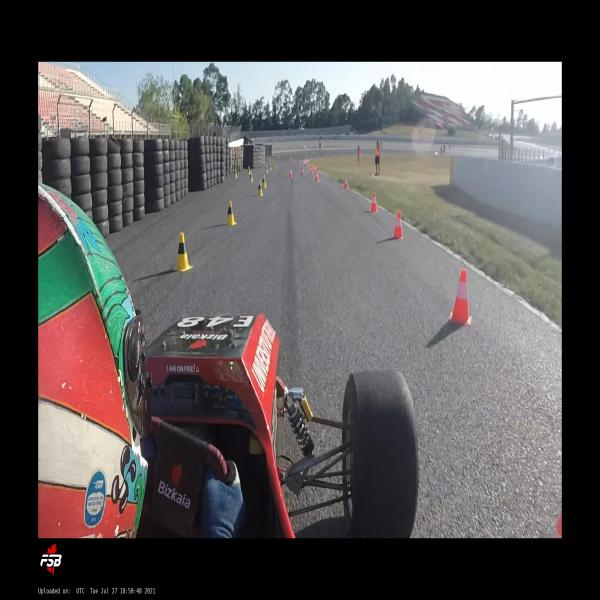orange_cone: (449, 270, 472, 326), (392, 211, 403, 239), (370, 192, 378, 212), (344, 176, 348, 189), (315, 172, 319, 181), (289, 169, 292, 178), (310, 168, 313, 174), (302, 168, 304, 176)
yellow_cone: (174, 232, 193, 272), (226, 200, 237, 225), (258, 181, 263, 196), (262, 175, 267, 189), (250, 171, 253, 182), (234, 168, 237, 178), (248, 166, 251, 175), (266, 165, 268, 173), (270, 164, 272, 170)
